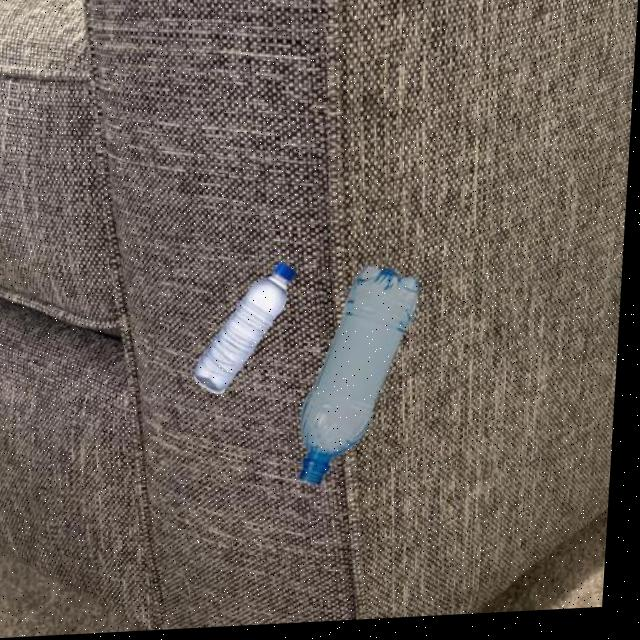bottle: (299, 266, 425, 489), (195, 262, 301, 399)
